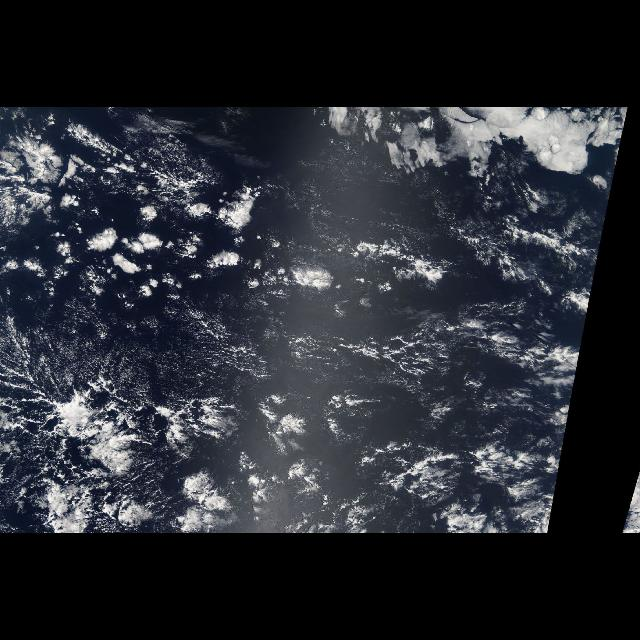Flower: (4, 109, 628, 533)
Gravel: (84, 341, 343, 491)
